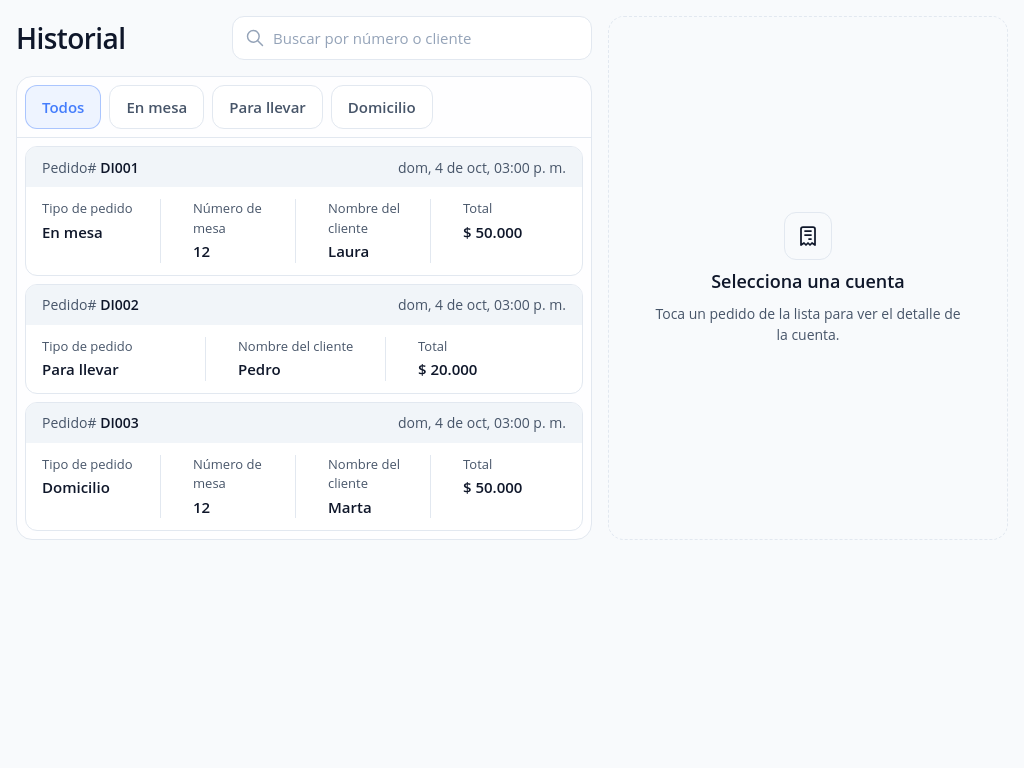
Test case: las líneas que llegan tarde de otro pedido no borran la cuenta elegida
Click the button "Pedido# DI001" at (304, 167), box left=25, top=146, right=583, bottom=276
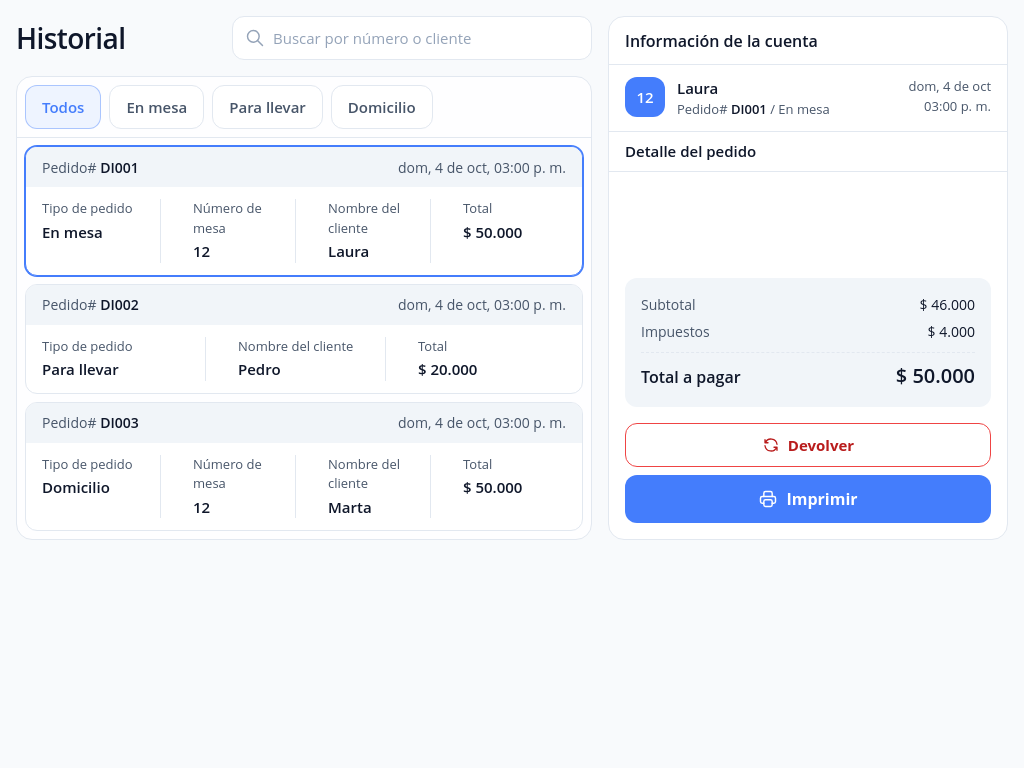
Click the button "Pedido# DI002" at (304, 338), box left=25, top=284, right=583, bottom=394
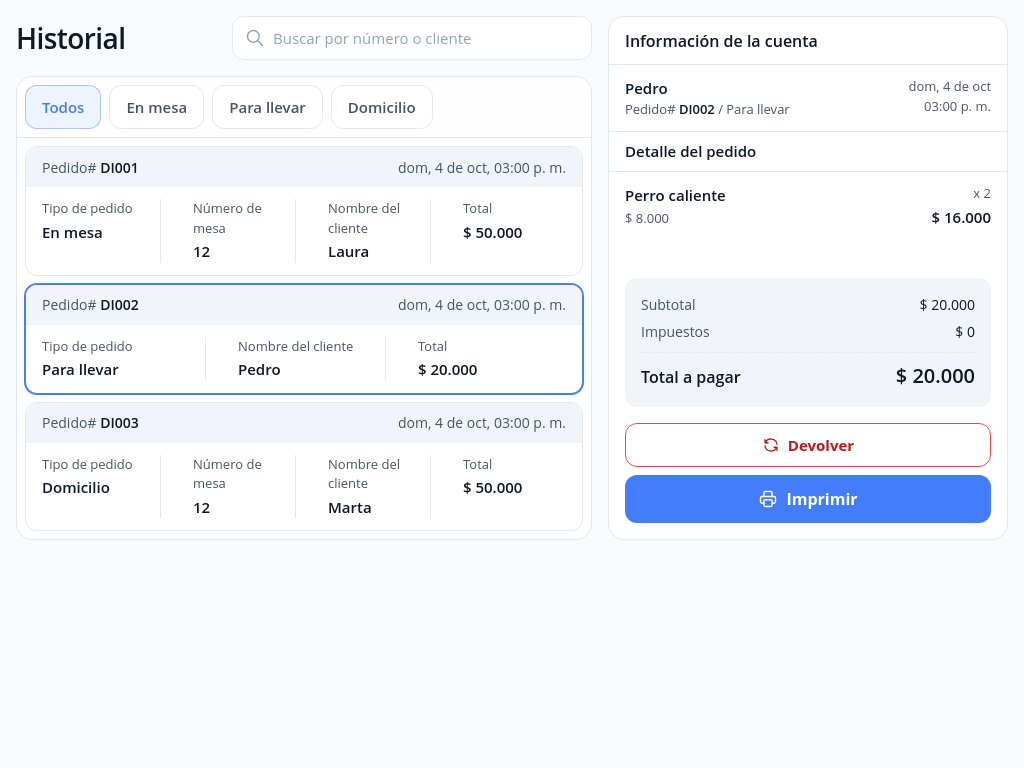
Check: the text "Perro caliente" is shown, box left=625, top=184, right=726, bottom=206
